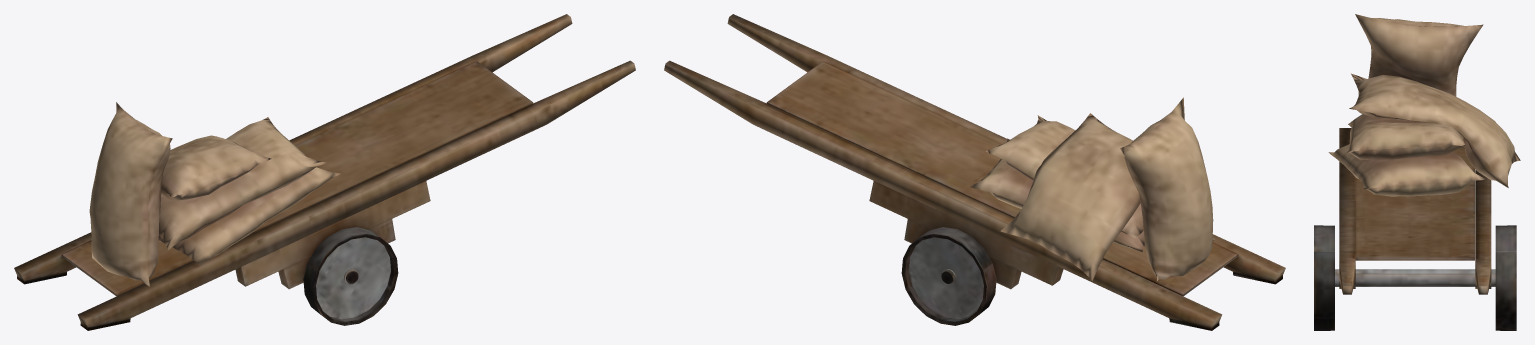
Rendered from cart.glb.
3 renders of one model, left to right at view 1: azimuth 30°, elevation 25°; view 2: azimuth 150°, elevation 25°; view 3: azimuth 270°, elevation 25°, orthographic. The views are drawn at different scales.
Parts seen in each view (by area): view 1: Hathgadi; view 2: Hathgadi; view 3: Hathgadi.
Boxes of the visible parts, x1=… form: Hathgadi: x1=14, y1=14, x2=635, y2=330; Hathgadi: x1=664, y1=14, x2=1285, y2=330; Hathgadi: x1=1314, y1=14, x2=1520, y2=330.
Size of the model in its own units: 17.64 by 6.47 by 5.35.
2 materials, 2 textured.
